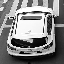motor: (17, 5, 49, 51)
